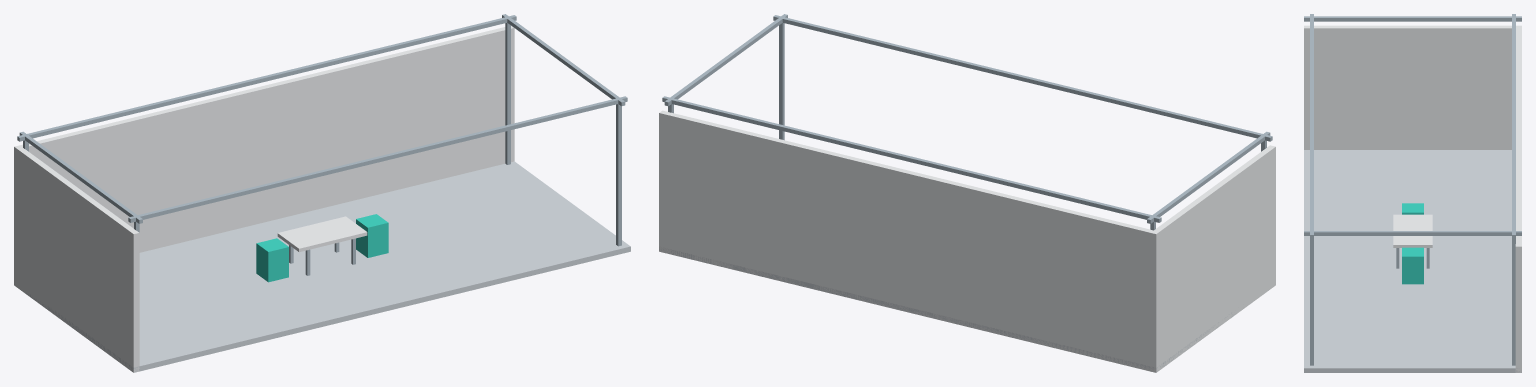
3 renders of one model, left to right at view 1: azimuth 30°, elevation 25°; view 2: azimuth 150°, elevation 25°; view 3: azimuth 270°, elevation 25°, orthographic. The views are drawn at different scales.
Visible parts, largest first — view 1: Exhibition Booth Concept; view 2: Exhibition Booth Concept; view 3: Exhibition Booth Concept.
Part boxes in pixels (x1=…): Exhibition Booth Concept: x1=14, y1=14, x2=630, y2=372; Exhibition Booth Concept: x1=659, y1=14, x2=1275, y2=372; Exhibition Booth Concept: x1=1304, y1=14, x2=1521, y2=372.
Bounding box in the file's own units: 12 × 3.49 × 5.
